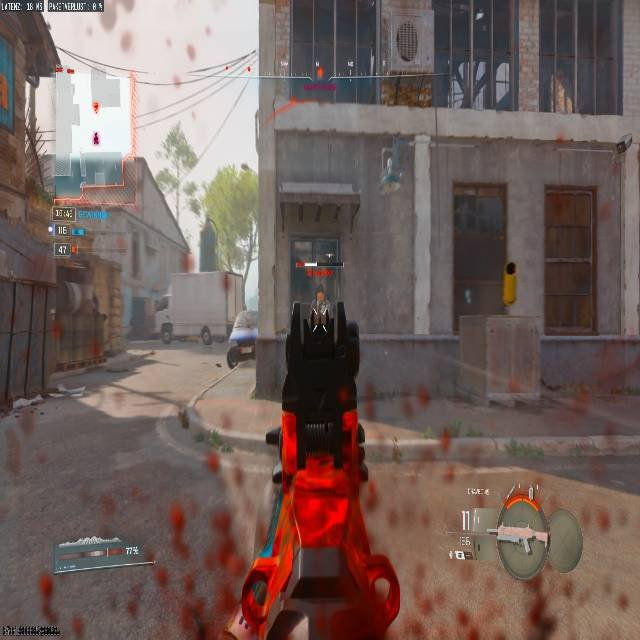player: (310, 278, 327, 313), (157, 315, 174, 345), (200, 324, 211, 345)
